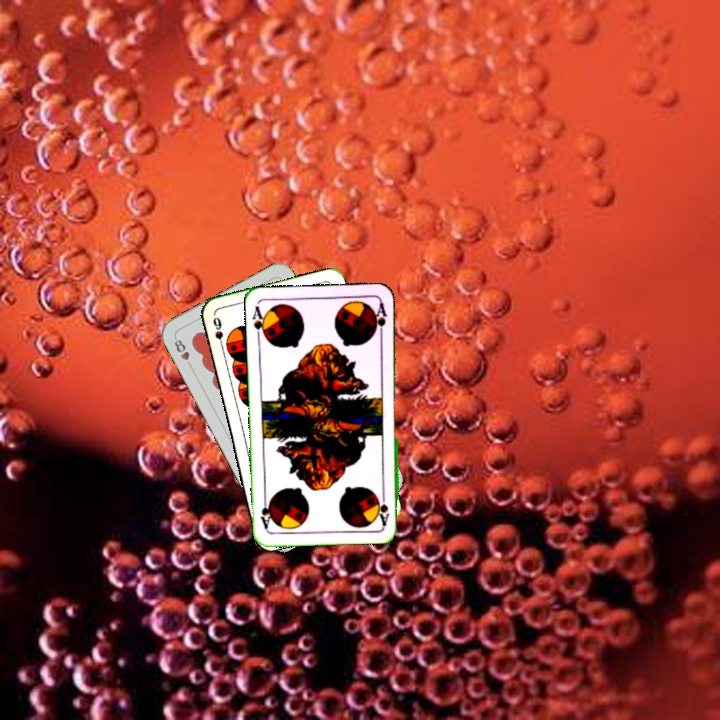H8: (170, 333, 195, 371)
S9: (209, 313, 226, 352)
SA: (249, 302, 269, 342), (375, 487, 392, 527)
